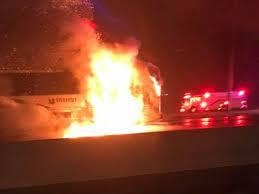fire: (67, 44, 149, 136)
